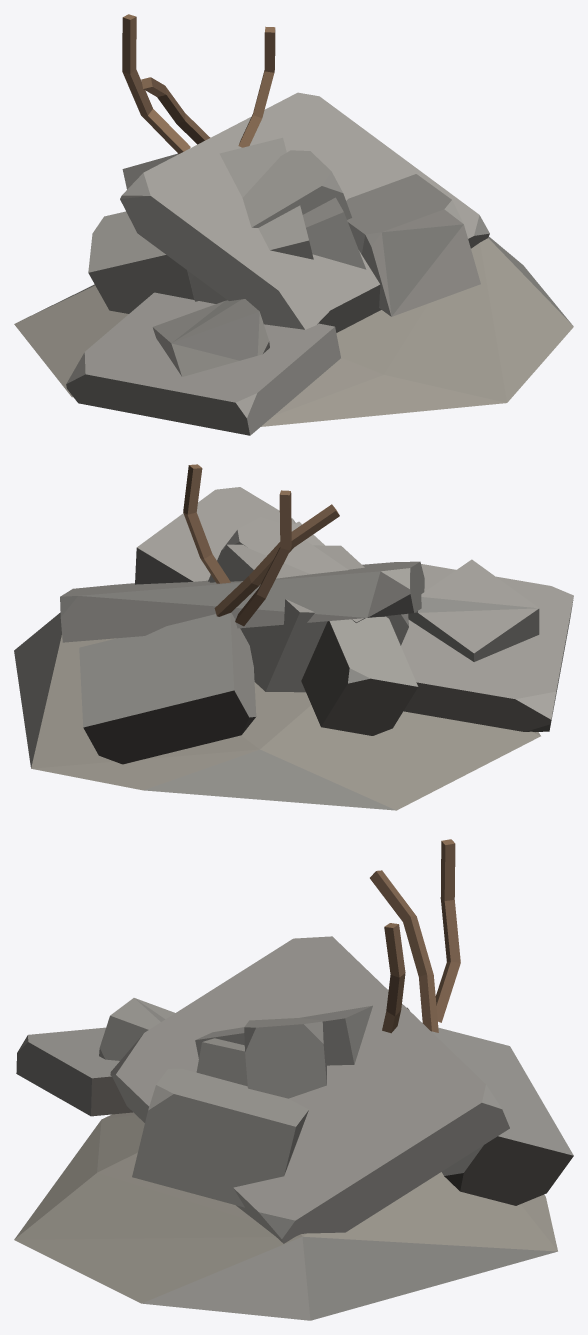
The model's file is rubble_0.glb.
3 renders of one model, top to bottom at view 1: azimuth 30°, elevation 25°; view 2: azimuth 150°, elevation 25°; view 3: azimuth 270°, elevation 25°, orthographic. The views are drawn at different scales.
Visible parts, largest first — view 1: Body; view 2: Body; view 3: Body.
Part boxes in pixels (box(x1,y1,x2,y2)): Body: box(14, 14, 573, 435); Body: box(14, 464, 573, 810); Body: box(14, 839, 573, 1320).
Bounding box in the file's own units: 2.8 × 1.54 × 2.56.
